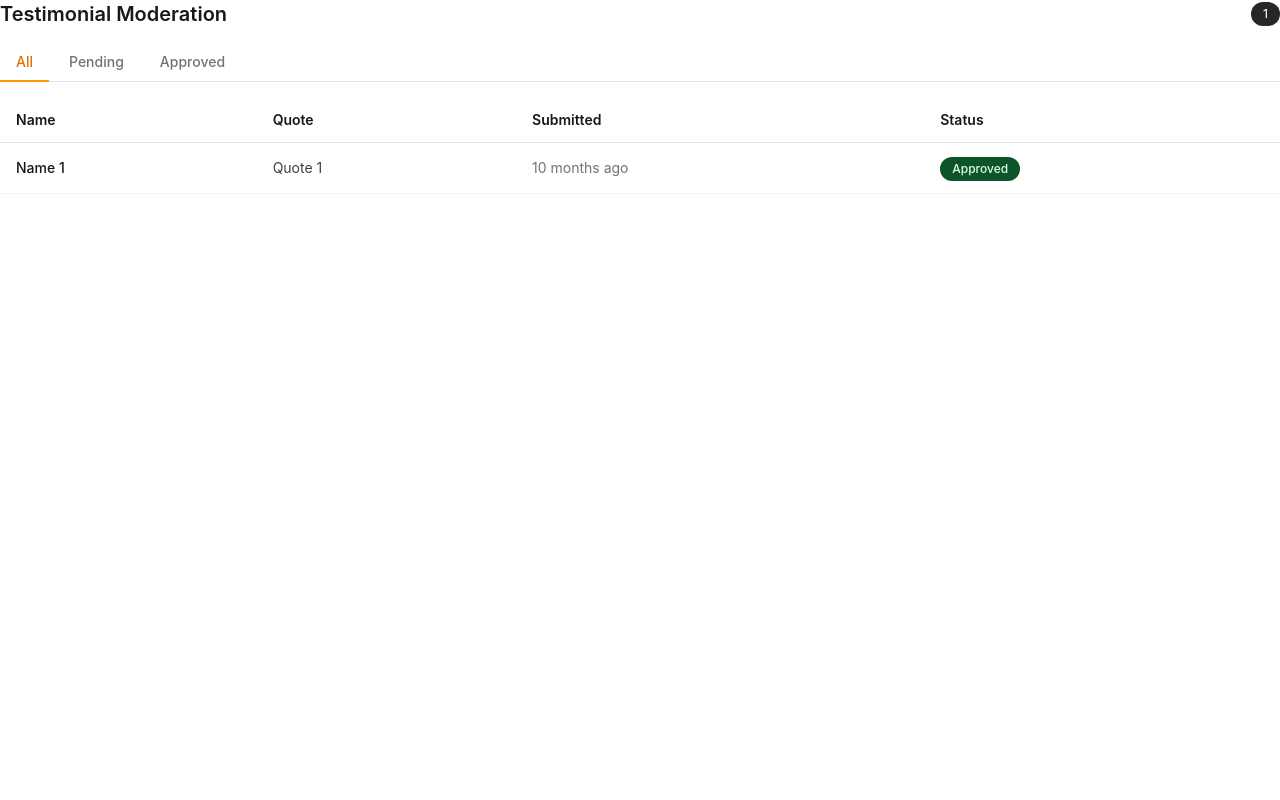
Scenario: shows a Revoke action for approved testimonials
The width and height of the screenshot is (1280, 800).
Click the text "Name 1": [40, 168] box [0, 142, 257, 194]
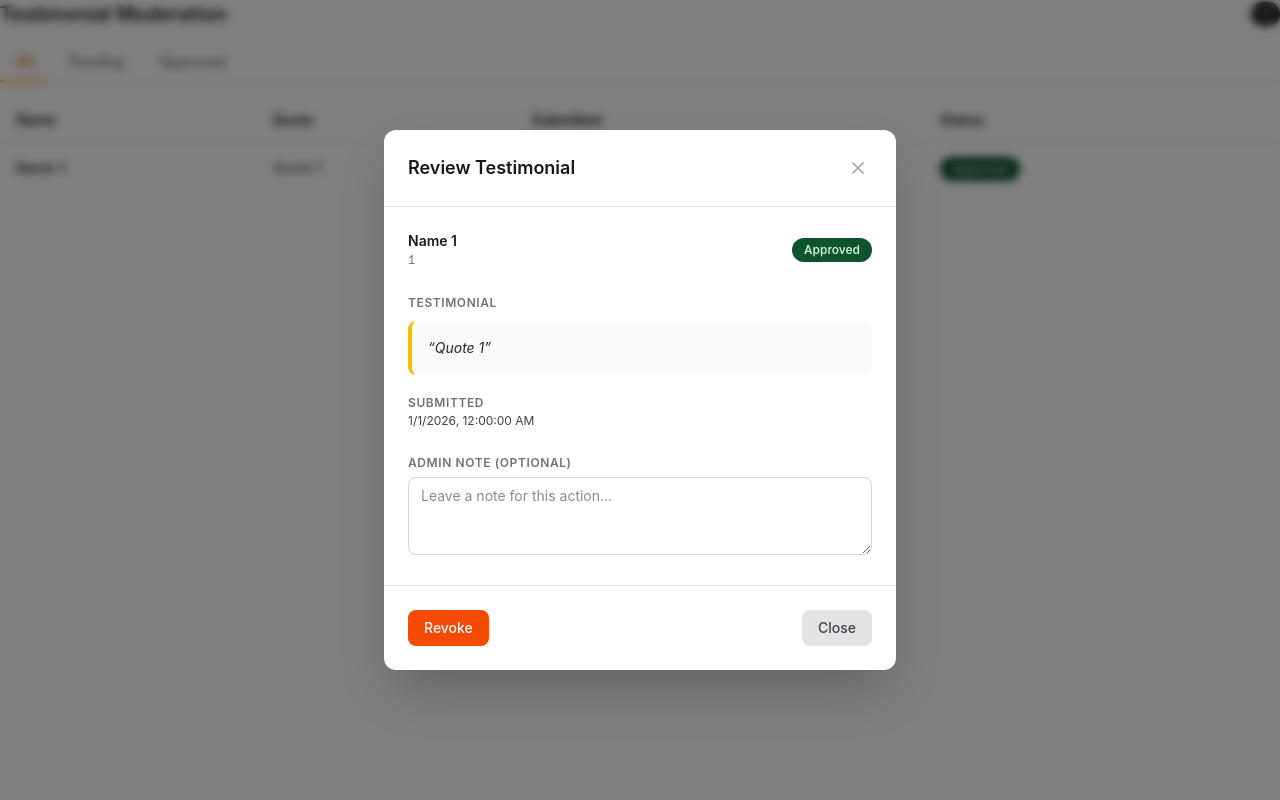
Check: the heading "Review Testimonial" is shown, box [408, 154, 575, 182]
Check: the button with aria-label "revoke testimonial from name 1" is shown, box [408, 610, 489, 646]
